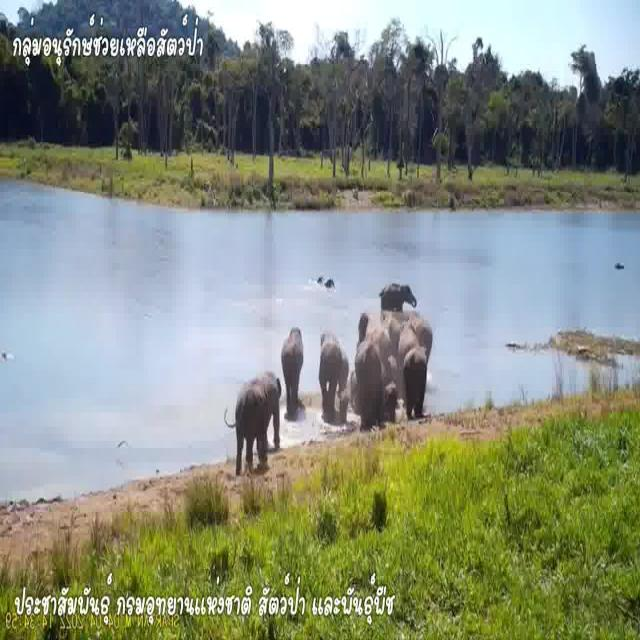Elephant: (234, 366, 283, 461), (354, 335, 384, 424), (316, 323, 346, 409), (279, 327, 305, 405), (401, 345, 429, 411), (379, 272, 416, 314)
